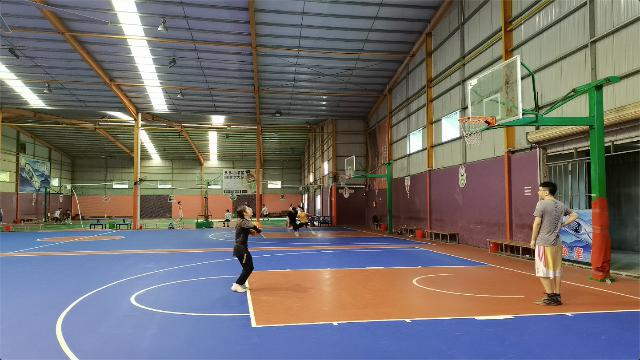ball: (248, 221, 262, 235)
basket: (458, 115, 486, 144)
